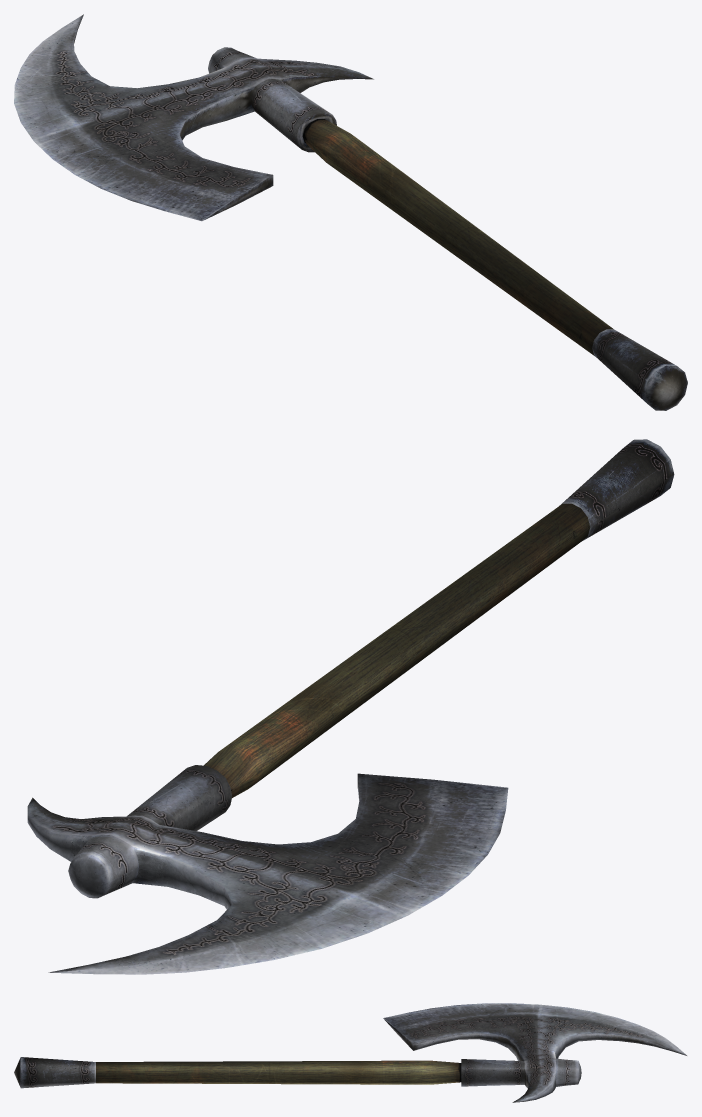
The model's file is Axe_A.FBX.
3 renders of one model, top to bottom at view 1: azimuth 30°, elevation 25°; view 2: azimuth 150°, elevation 25°; view 3: azimuth 270°, elevation 25°, orthographic. The views are drawn at different scales.
Visible parts, largest first — view 1: Axe_A; view 2: Axe_A; view 3: Axe_A.
Boxes of the visible parts, x1,y1,x2,y2 form: Axe_A: [14, 14, 687, 410]; Axe_A: [27, 439, 674, 974]; Axe_A: [14, 1003, 686, 1102].
Size of the model in its own units: 29.35 by 3.92 by 83.98.
